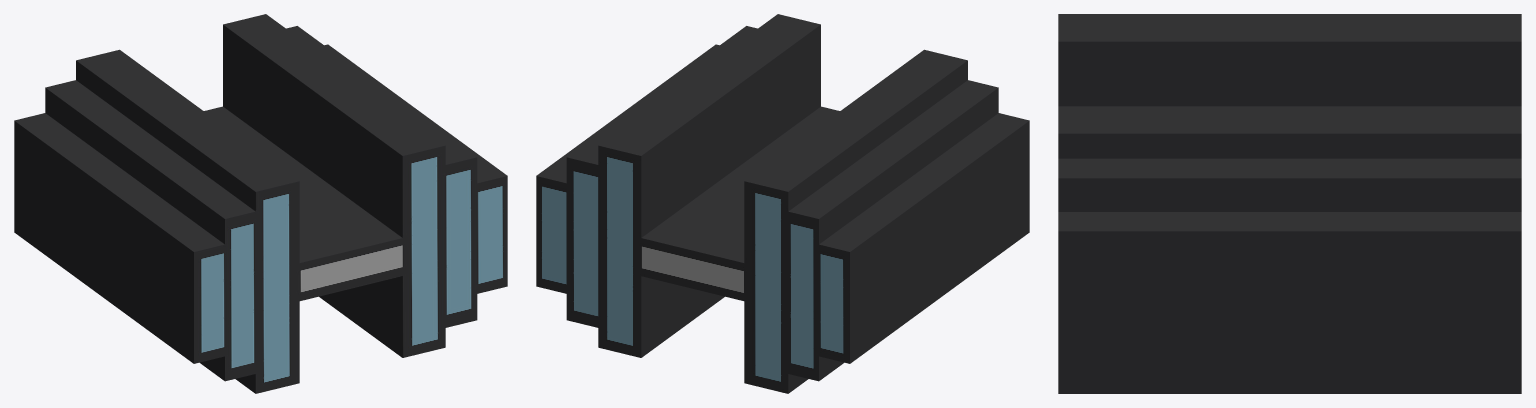
The model's file is Peso.FBX.
3 renders of one model, left to right at view 1: azimuth 30°, elevation 25°; view 2: azimuth 150°, elevation 25°; view 3: azimuth 270°, elevation 25°, orthographic. The views are drawn at different scales.
Visible parts, largest first — view 1: Peso; view 2: Peso; view 3: Peso.
Boxes of the visible parts, x1,y1,x2,y2 form: Peso: (14,14,507,393); Peso: (536,14,1029,393); Peso: (1058,14,1521,393).
Size of the model in its own units: 6012 by 3698 by 5964.
1 material, 1 textured.
